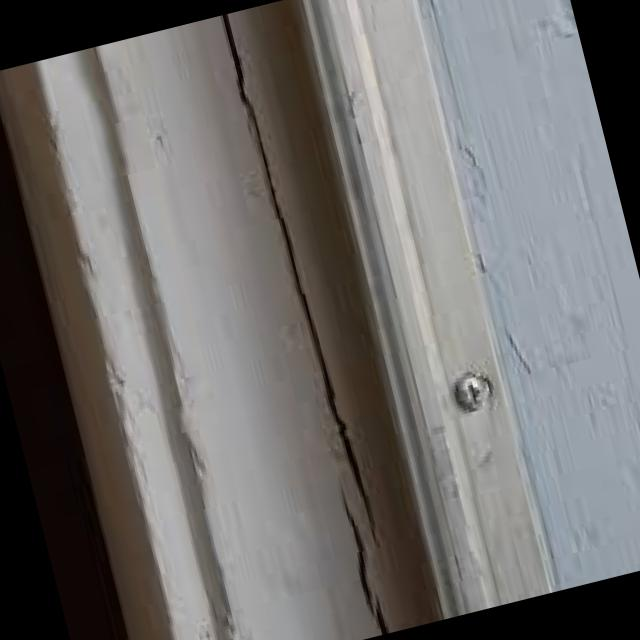crack: (210, 8, 378, 546), (326, 474, 392, 632)
